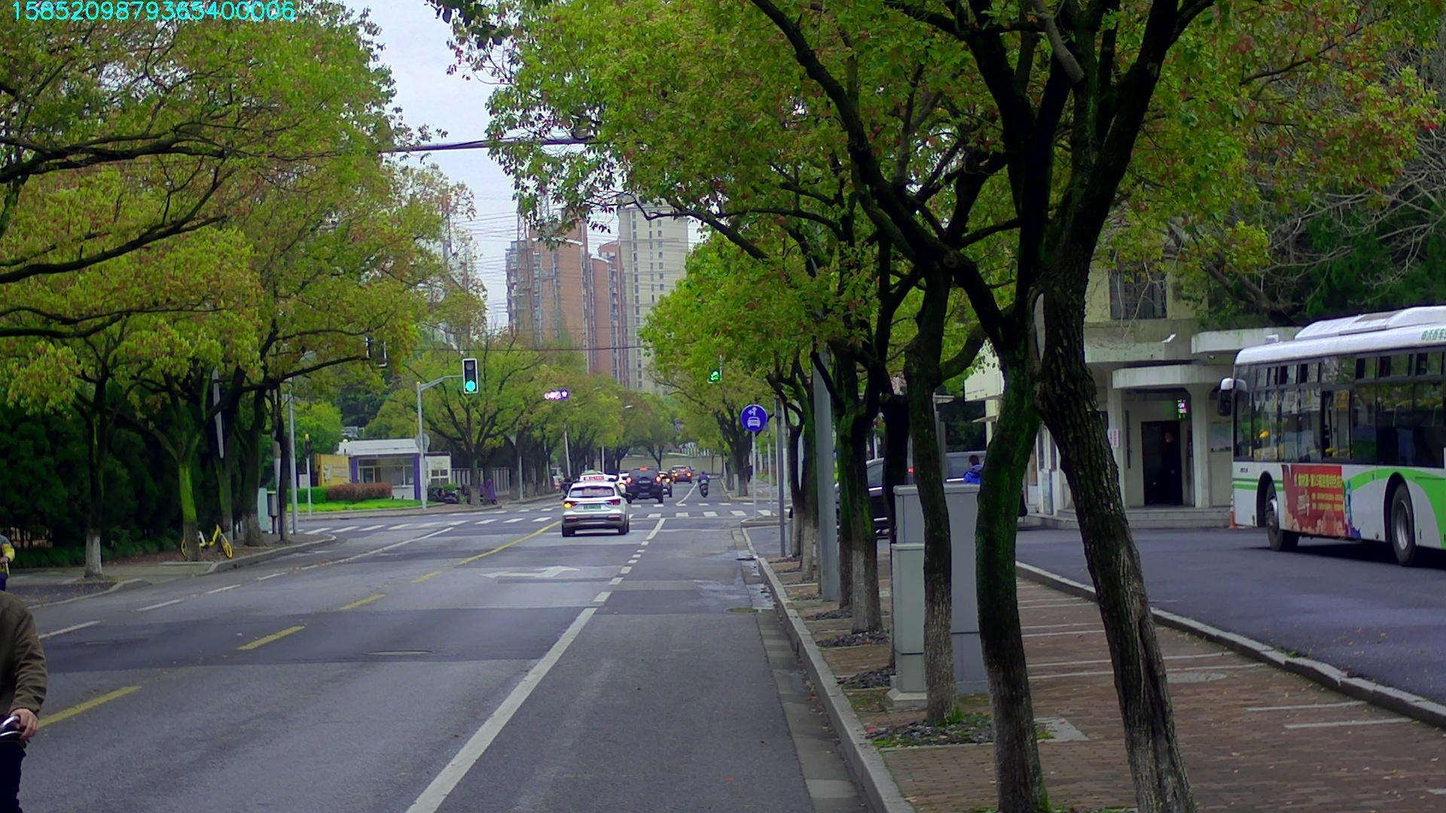green: (462, 358, 476, 391), (708, 363, 719, 380)
